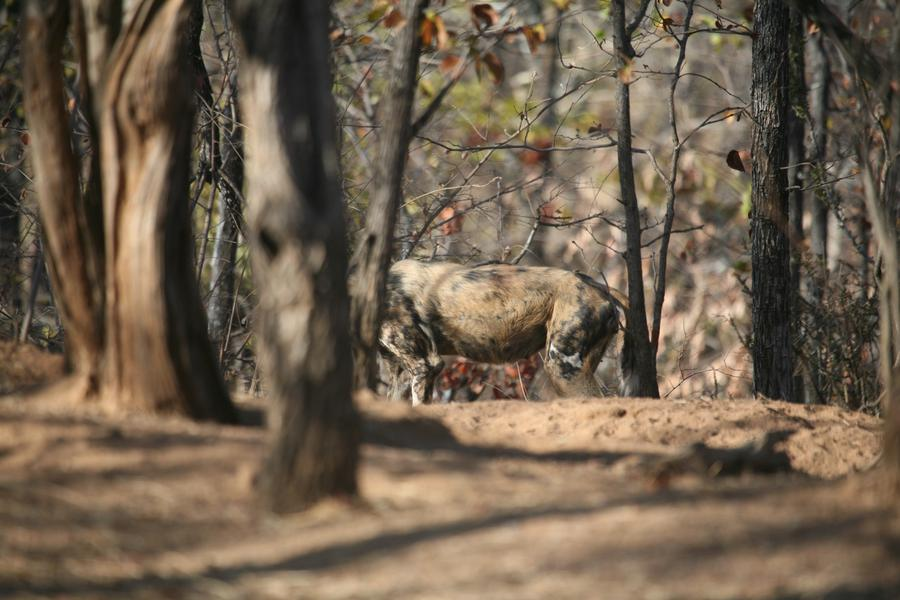wilddog: (384, 255, 602, 382)
